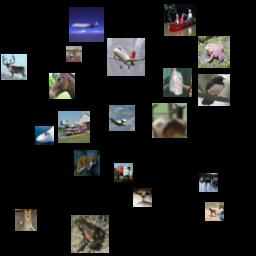airplane: (107, 38, 145, 76), (69, 7, 104, 42), (109, 105, 135, 131)
bird: (198, 74, 230, 106)
cat: (74, 150, 100, 176), (15, 209, 37, 231), (133, 188, 152, 207)
deer: (152, 103, 187, 138), (1, 54, 27, 80), (199, 173, 218, 192)
dog: (163, 68, 192, 97), (66, 46, 82, 62)
frog: (71, 215, 109, 253), (198, 36, 230, 68)
ship: (164, 4, 196, 36), (35, 126, 54, 145)
truck: (58, 111, 90, 143), (114, 163, 133, 182)
